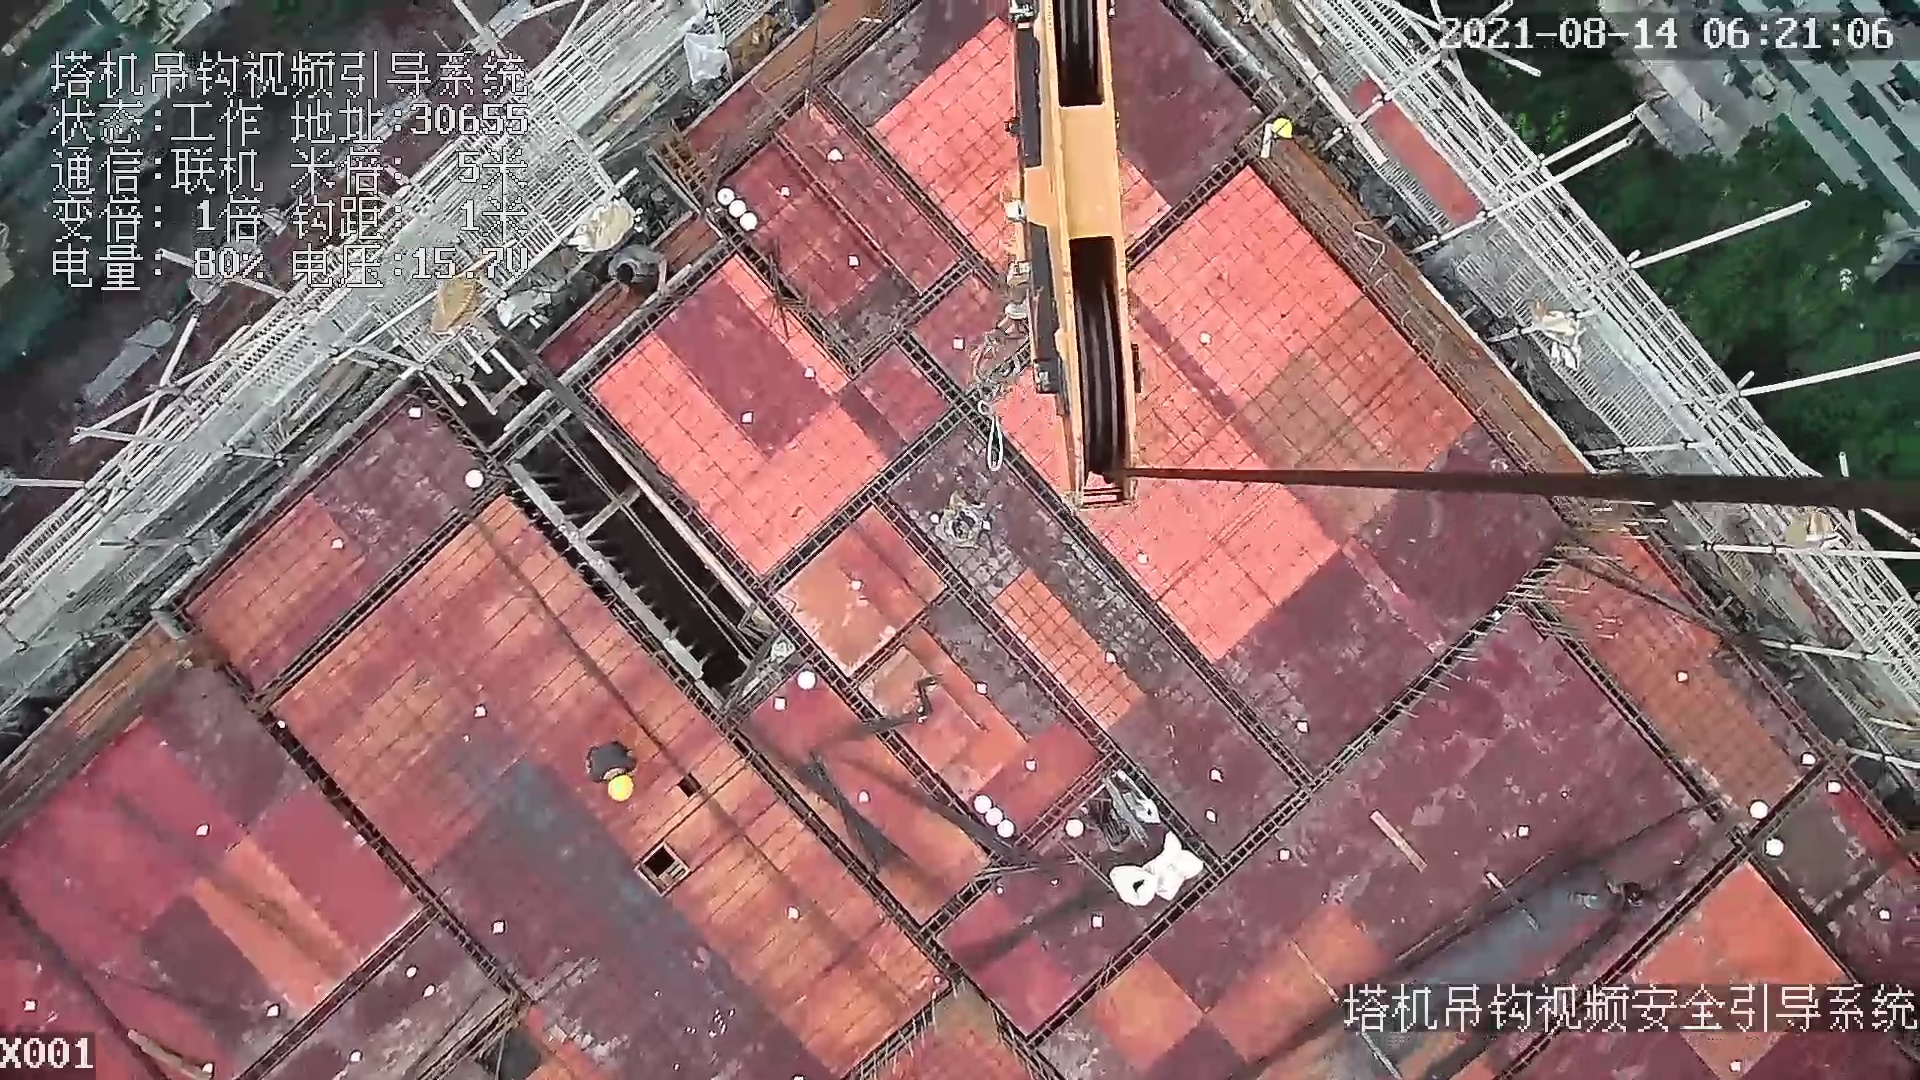helmet: (610, 775, 634, 801)
hook: (962, 1, 1163, 518)
person: (586, 733, 637, 806)
